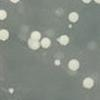white: (78, 75, 97, 91), (55, 32, 71, 49), (26, 37, 42, 52), (67, 56, 81, 73), (39, 34, 52, 51), (66, 10, 81, 24), (0, 27, 11, 45), (29, 29, 42, 41), (6, 86, 18, 97), (0, 9, 8, 22), (53, 57, 62, 68), (79, 0, 95, 6), (8, 0, 22, 5), (67, 23, 75, 31), (92, 0, 100, 8)
